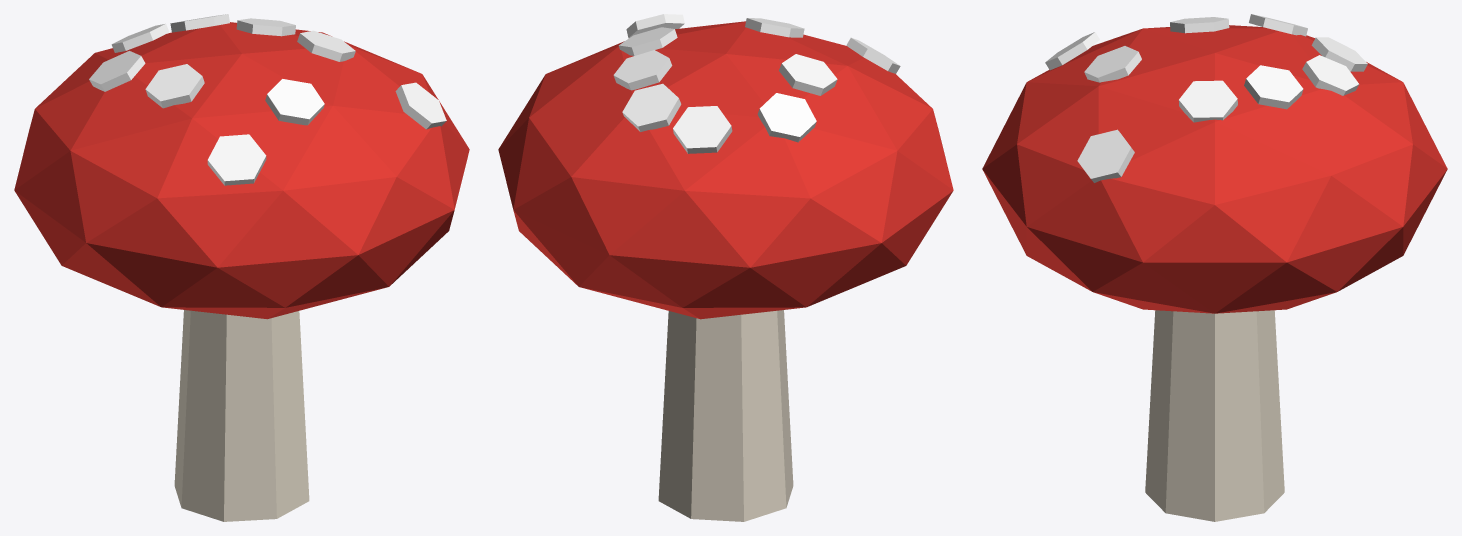
Rendered from Mushroom.fbx.
3 views of the same model, side by side, from view 1: azimuth 30°, elevation 25°; view 2: azimuth 150°, elevation 25°; view 3: azimuth 270°, elevation 25° (orthographic).
Visible parts, largest first — view 1: Cap, Stem, Spots; view 2: Cap, Stem, Spots; view 3: Cap, Stem, Spots.
Boxes of the visible parts, left/top/right/bottom form: Cap: left=14, top=22, right=469, bottom=319; Stem: left=174, top=310, right=309, bottom=521; Spots: left=89, top=14, right=446, bottom=185; Cap: left=498, top=21, right=953, bottom=319; Stem: left=658, top=310, right=793, bottom=521; Spots: left=613, top=14, right=900, bottom=153; Cap: left=982, top=25, right=1447, bottom=313; Stem: left=1145, top=310, right=1284, bottom=521; Spots: left=1045, top=14, right=1367, bottom=182.
Size of the model in its own units: 5.71 by 6.31 by 6.
